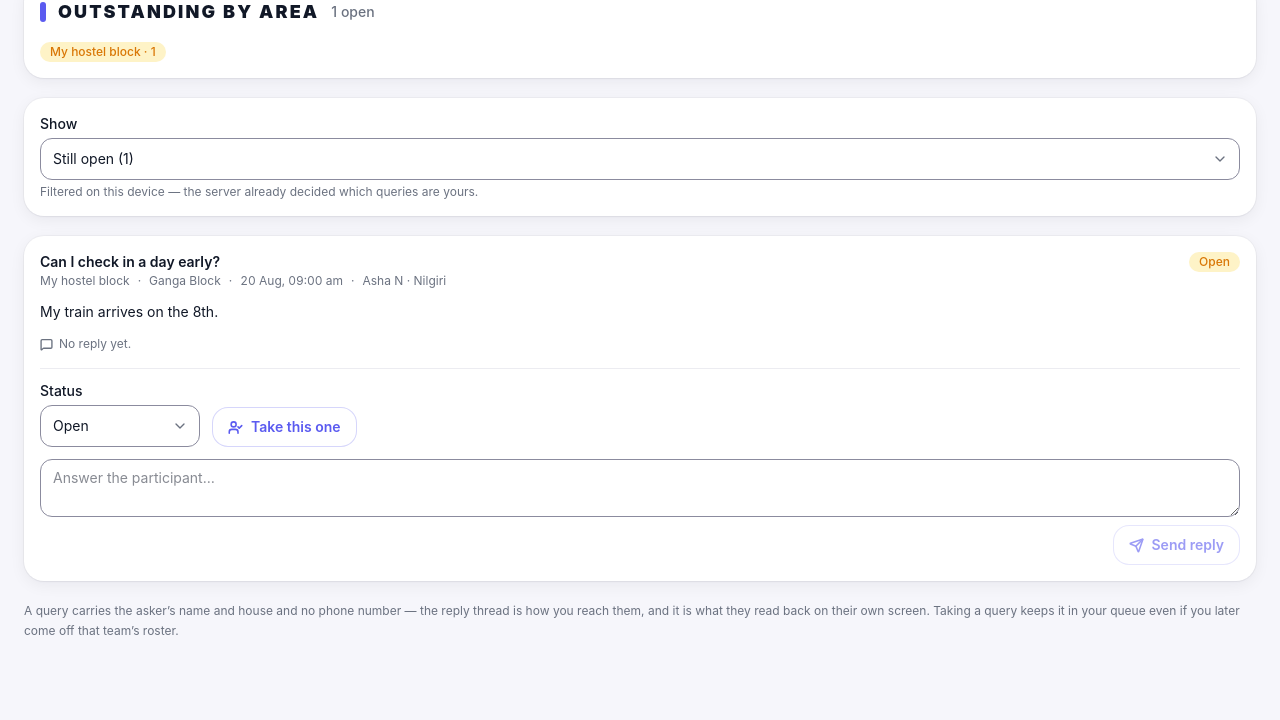
StaffSupportPage › the questions tab › claims a query by naming the caller, which the backend reads as assigned
(page scrolled)
Expected: the heading "Can I check in a day early?" is shown, [40, 253, 220, 270]
Click the button "Take this one" at (284, 427), box [212, 407, 356, 447]
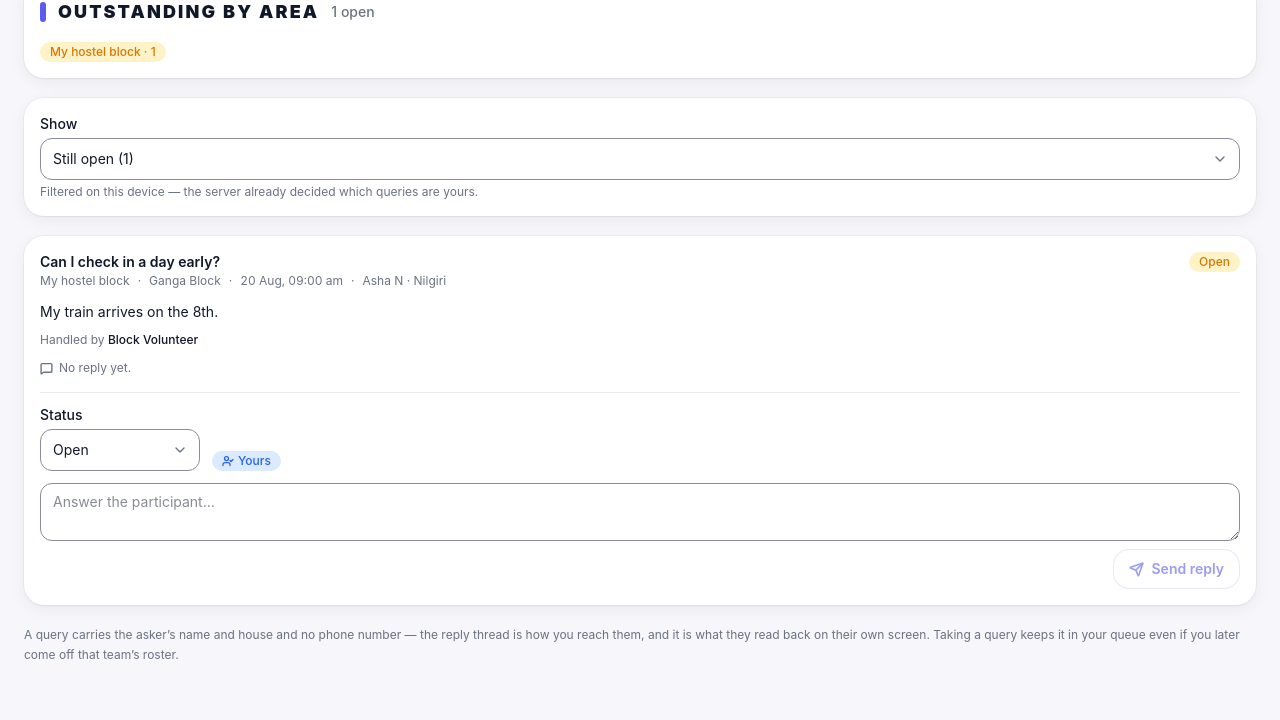
Expected: the text "Yours" is shown, [212, 451, 281, 471]
